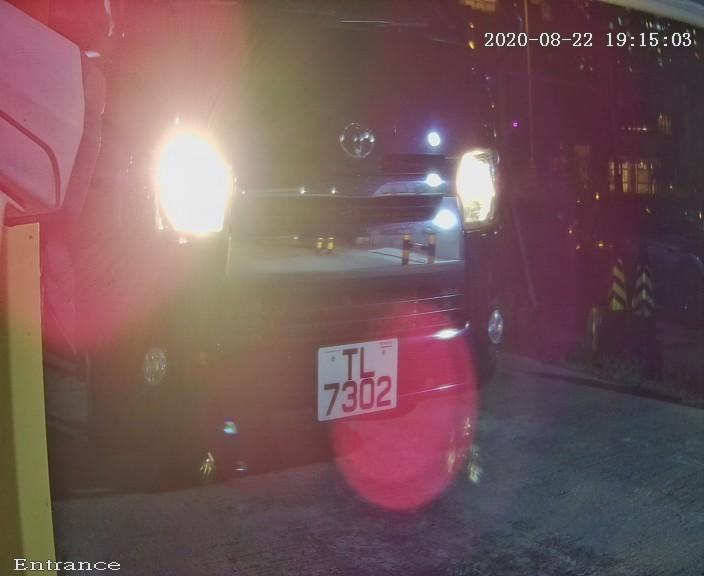Car: (45, 8, 585, 548)
License Plate: (302, 322, 412, 438)
